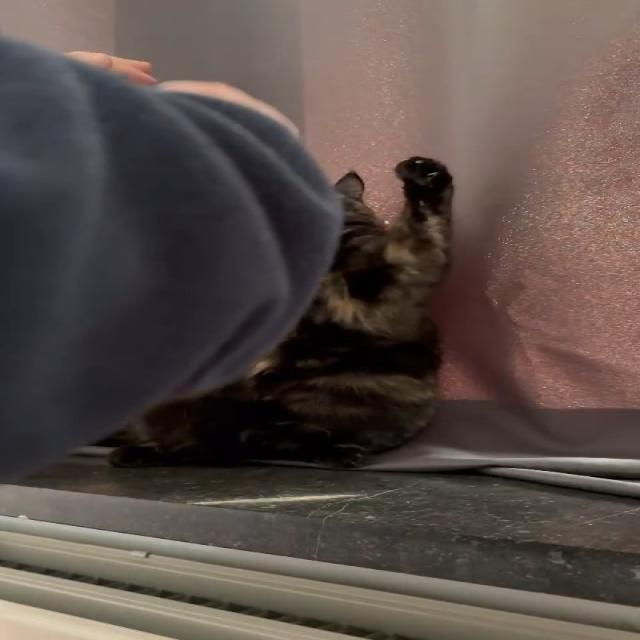authorized: (103, 155, 456, 469)
